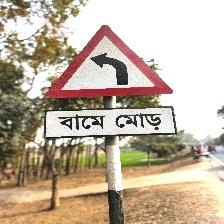Left-Turn: (41, 24, 176, 140)
